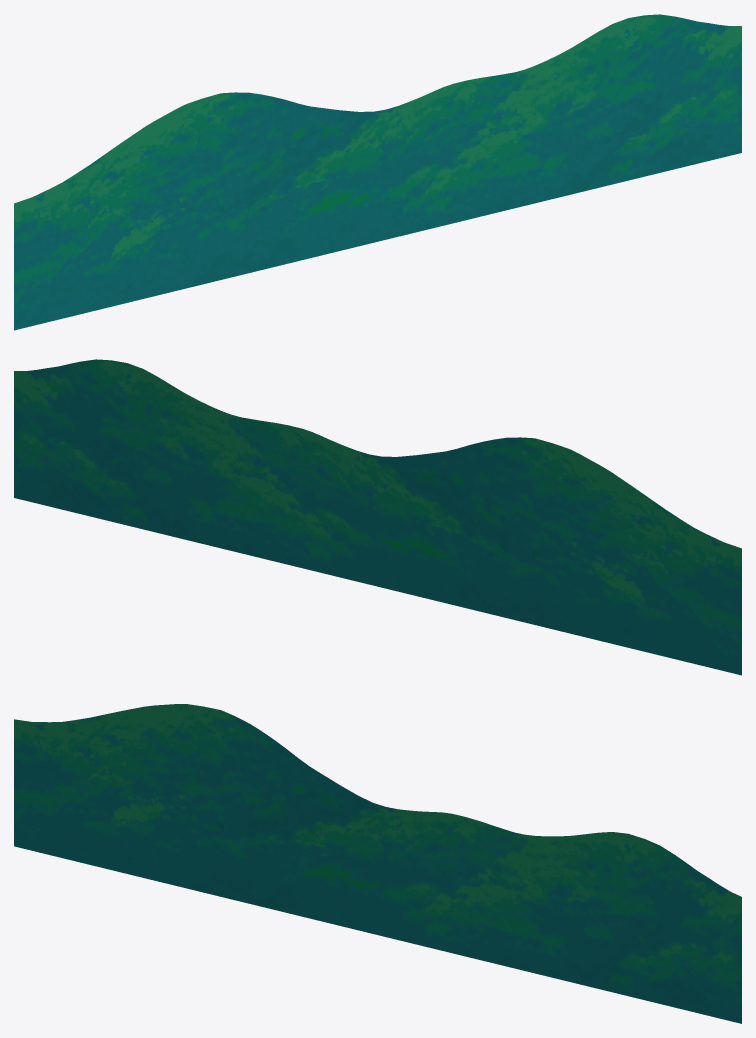
File: mountain_mid.obj
3 views of the same model, one above another, from view 1: azimuth 30°, elevation 25°; view 2: azimuth 150°, elevation 25°; view 3: azimuth 330°, elevation 25° (orthographic).
Visible parts, largest first — view 1: 平面; view 2: 平面; view 3: 平面.
Part boxes in pixels (x1,y1,x2,y2): 平面: (14,14,741,330); 平面: (14,359,741,675); 平面: (14,704,741,1023).
Size of the model in its own units: 5.42 by 1.33 by 0.
Materials: 1 (1 with a texture image).
